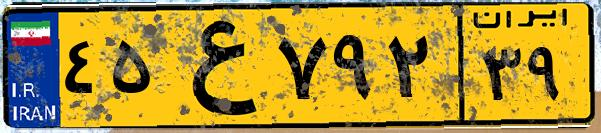2: (385, 28, 445, 110)
3: (475, 38, 525, 113)
4: (57, 26, 110, 100)
5: (110, 28, 158, 98)
7: (270, 28, 330, 110)
9: (330, 28, 385, 110), (525, 38, 570, 115)
ع: (158, 12, 270, 120)
